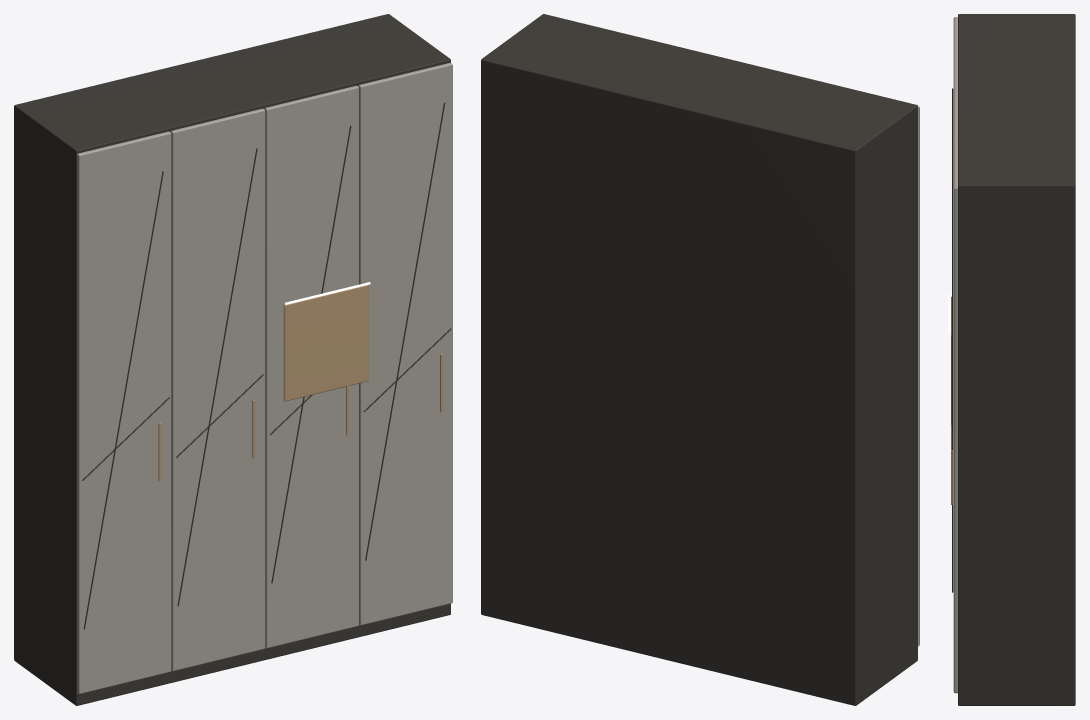
The model's file is geometric-greige-wardrobe.glb.
3 renders of one model, left to right at view 1: azimuth 30°, elevation 25°; view 2: azimuth 150°, elevation 25°; view 3: azimuth 270°, elevation 25°, orthographic. The views are drawn at different scales.
Parts seen in each view (by area): view 1: Geometric greige door, Full height carcass, Recessed bronze grip; view 2: Full height carcass, Geometric greige door; view 3: Full height carcass, Geometric greige door, Recessed bronze grip.
Boxes of the visible parts, x1,y1,x2,y2 form: Geometric greige door: [77, 63, 452, 693]; Full height carcass: [14, 14, 451, 705]; Recessed bronze grip: [158, 285, 442, 480]; Full height carcass: [481, 14, 917, 705]; Geometric greige door: [918, 106, 919, 646]; Full height carcass: [952, 14, 1075, 705]; Geometric greige door: [953, 17, 957, 693]; Recessed bronze grip: [951, 296, 952, 504].
Bounding box in the file's own units: 1.9 × 2.69 × 0.5945.
